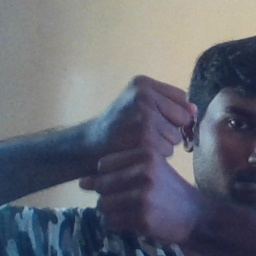G: (89, 73, 205, 240)
